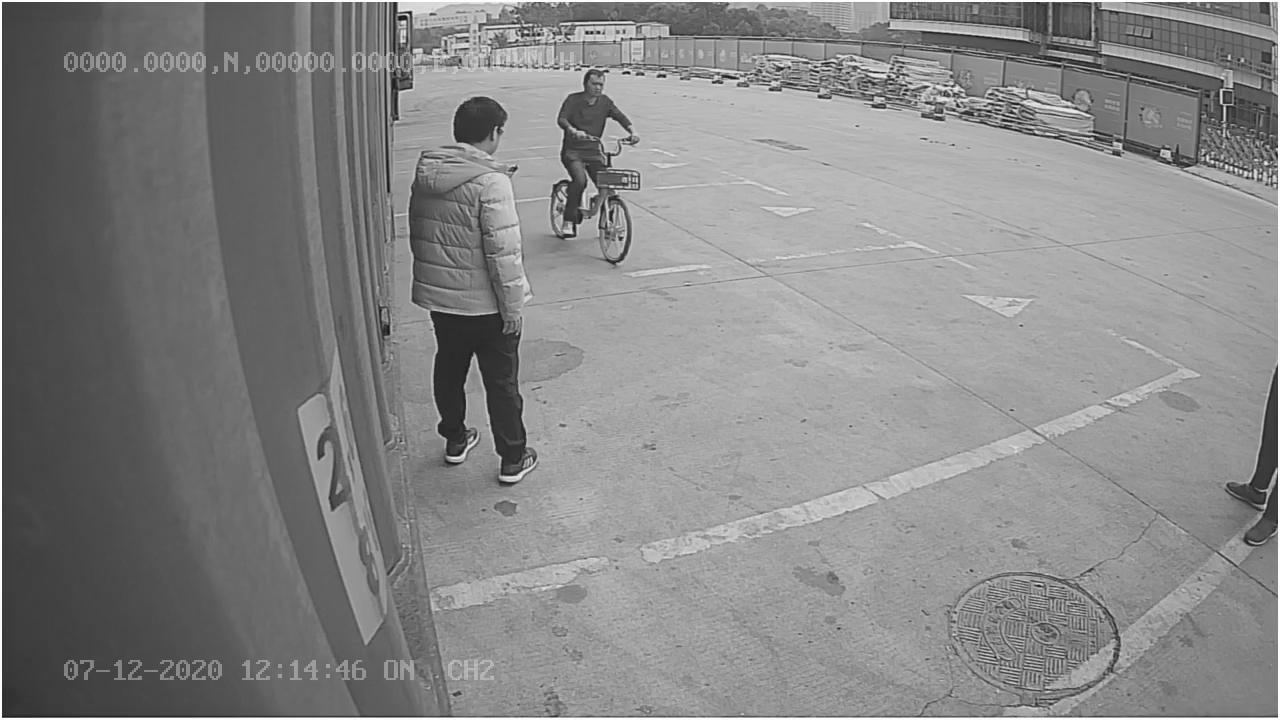person: (410, 79, 536, 481)
